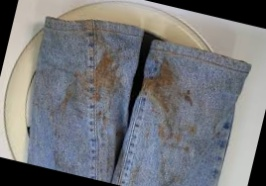earth: (144, 57, 179, 109), (87, 49, 124, 96)
